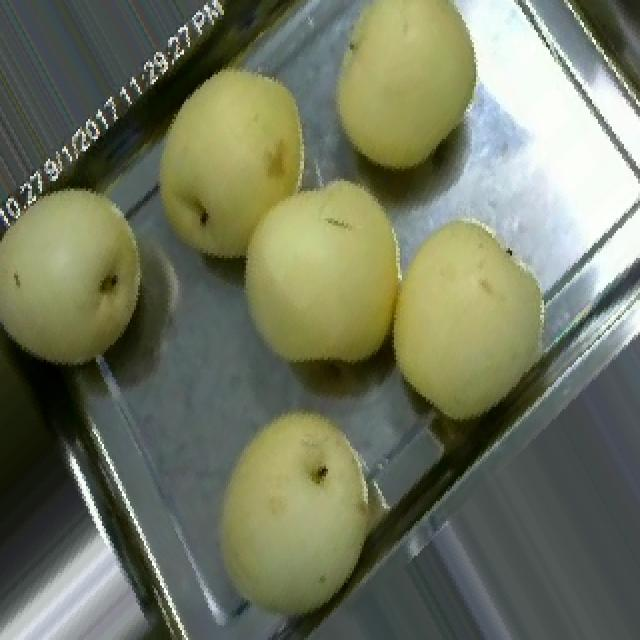Fruit: (194, 392, 396, 637), (130, 45, 330, 285), (220, 152, 426, 384), (374, 201, 572, 439), (0, 163, 166, 380), (310, 0, 498, 189)
